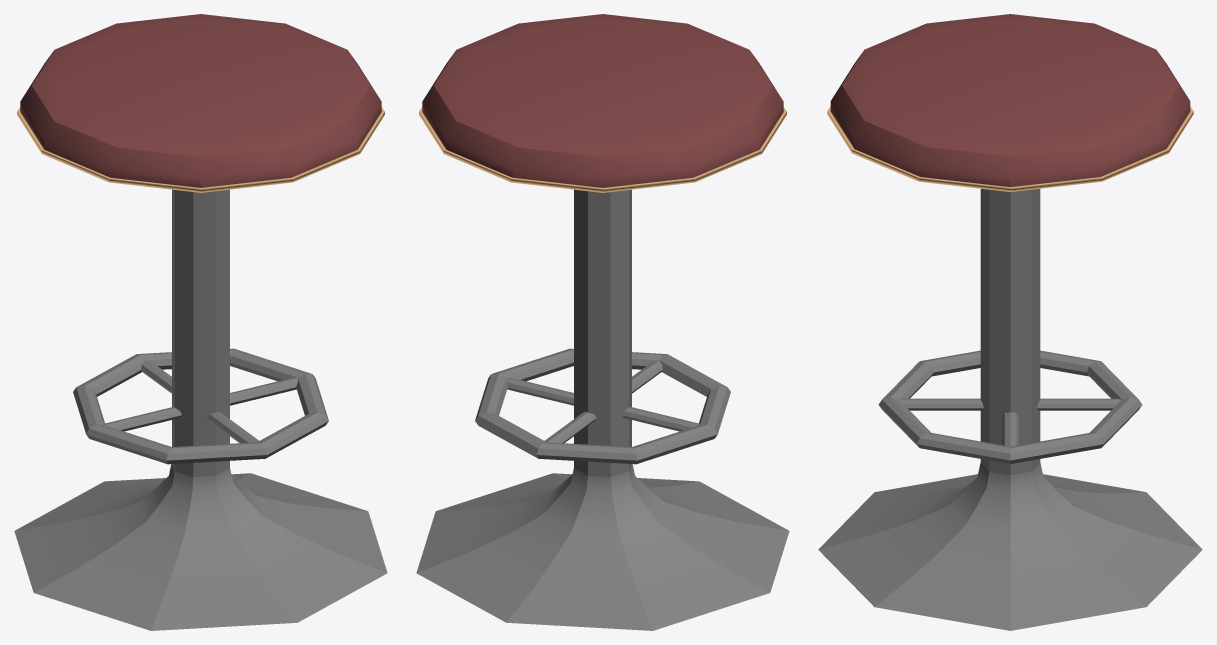
Rendered from Bancobar.fbx.
3 views of the same model, side by side, from view 1: azimuth 30°, elevation 25°; view 2: azimuth 150°, elevation 25°; view 3: azimuth 270°, elevation 25° (orthographic).
Parts seen in each view (by area): view 1: Banco_Bar1; view 2: Banco_Bar1; view 3: Banco_Bar1.
Boxes of the visible parts, left/top/right/bottom form: Banco_Bar1: left=14, top=14, right=387, bottom=630; Banco_Bar1: left=416, top=14, right=789, bottom=630; Banco_Bar1: left=818, top=14, right=1202, bottom=630.
Bounding box in the file's own units: 4.81 × 6.5 × 4.81.
